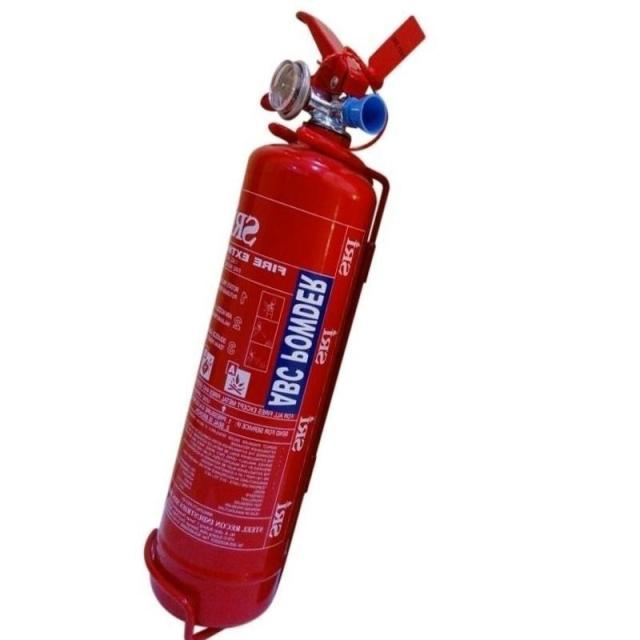fire_extinguisher: (141, 8, 433, 632)
